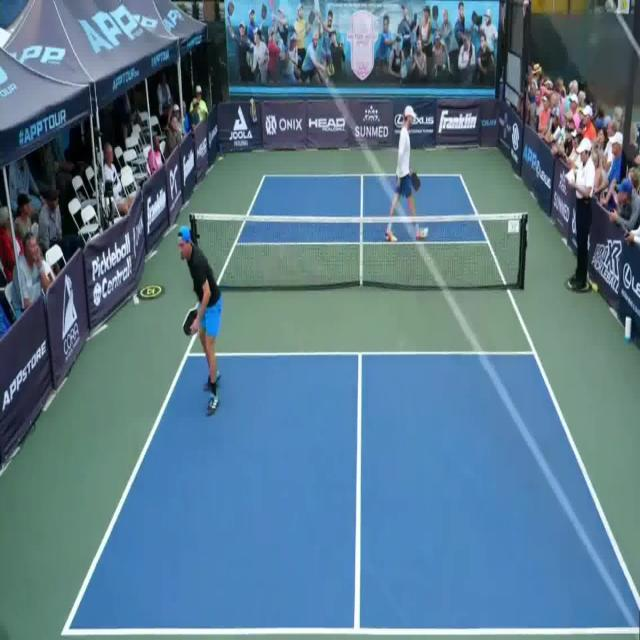Court: (67, 175, 640, 638)
